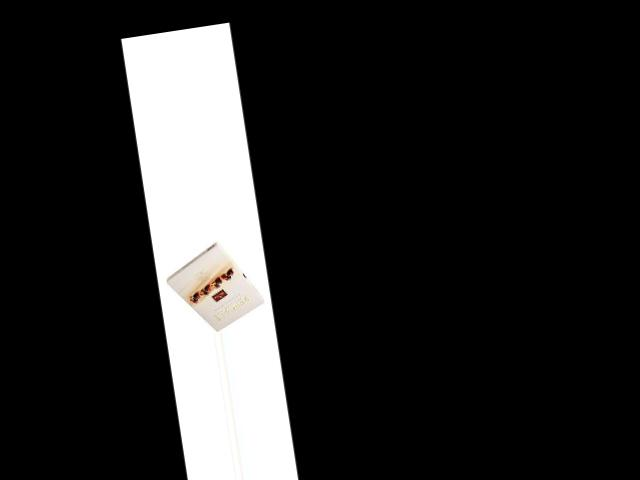chocolate: (154, 234, 267, 337)
